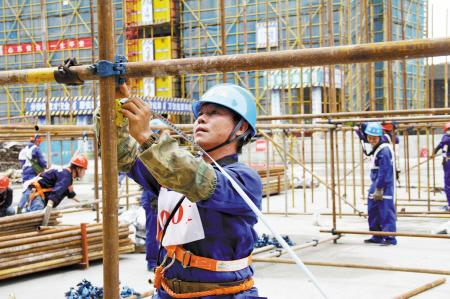helmet: (191, 84, 258, 135), (70, 156, 92, 171), (364, 123, 385, 138), (31, 135, 46, 146), (1, 175, 12, 190), (441, 119, 450, 136)
